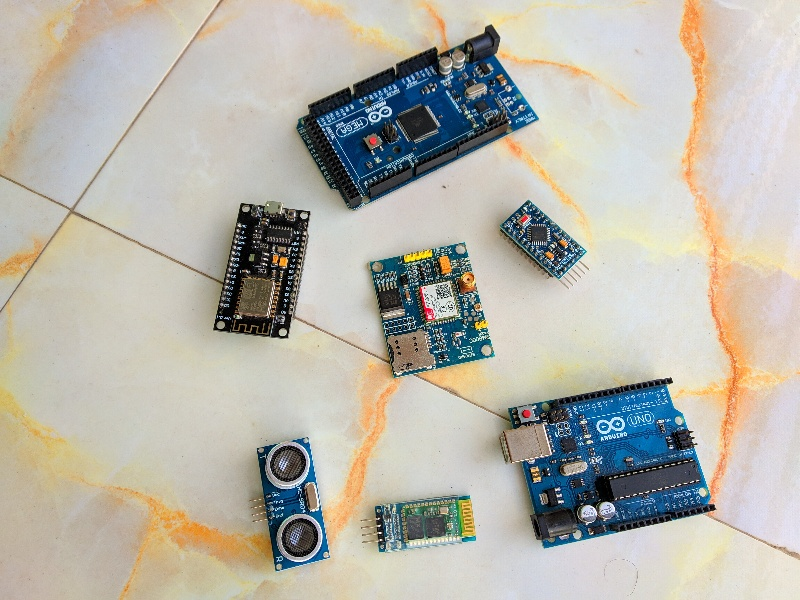Arduino Mega 2560: (296, 18, 545, 215)
Arduino Pro Mini: (494, 196, 589, 282)
Arduino UNO: (497, 374, 723, 553)
HC-05: (370, 491, 485, 556)
NodeMCU: (210, 194, 319, 348)
SIM800: (363, 240, 499, 381)
Sonar Sensor: (252, 433, 338, 571)
